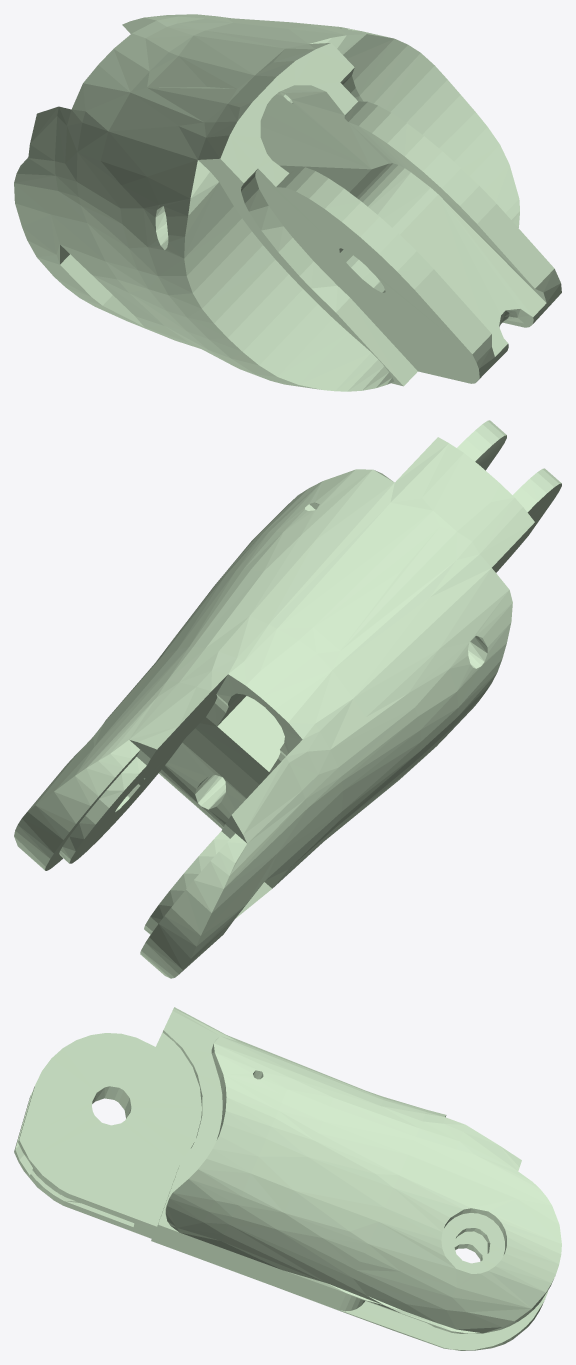
The model's file is i02_rightHand_pinkyPhal_visual.obj.light.glb.
3 renders of one model, top to bottom at view 1: azimuth 30°, elevation 25°; view 2: azimuth 150°, elevation 25°; view 3: azimuth 270°, elevation 25°, orthographic. The views are drawn at different scales.
Size of the model in its own units: 0.2346 by 0.3092 by 0.4963.
